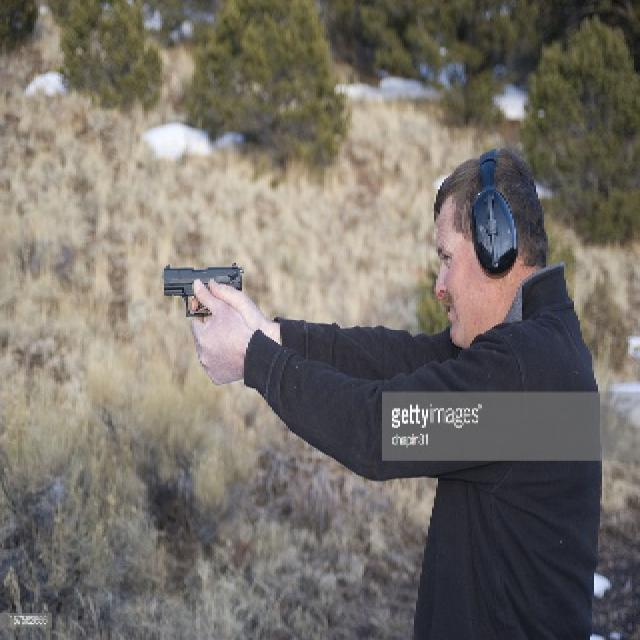handgun: (155, 258, 253, 321)
